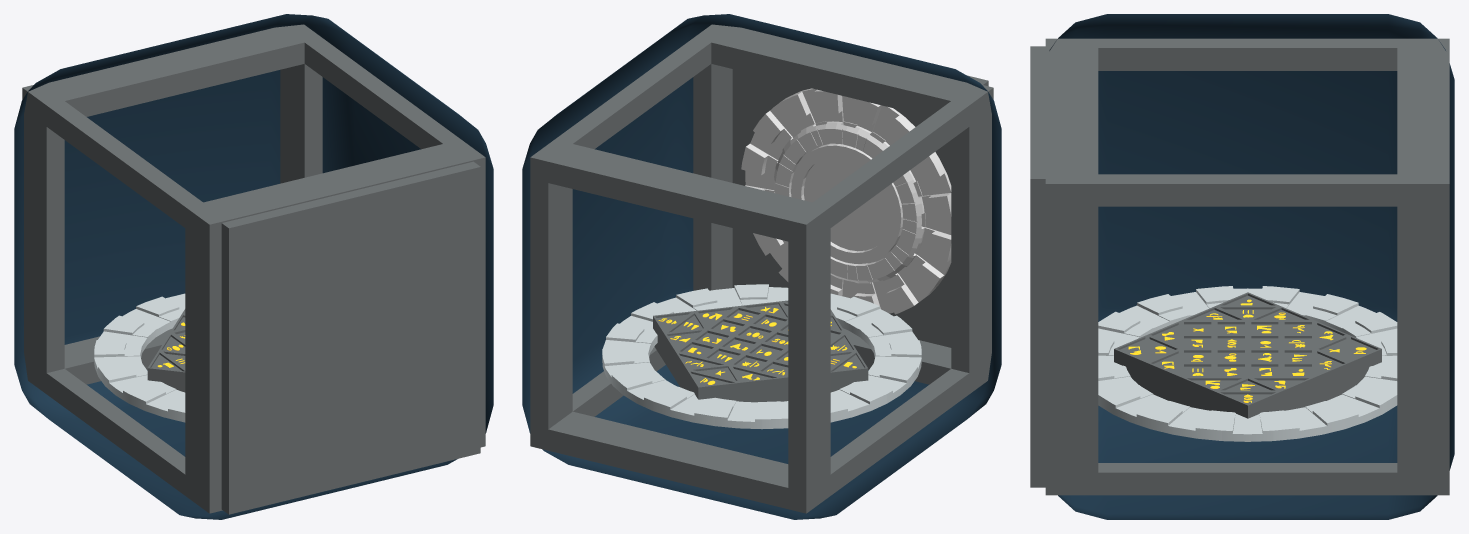
Rendered from MAIN PUZZLE.fbx.
3 renders of one model, left to right at view 1: azimuth 30°, elevation 25°; view 2: azimuth 150°, elevation 25°; view 3: azimuth 270°, elevation 25°, orthographic. The views are drawn at different scales.
Parts seen in each view (by area): view 1: Cube.064, Cube.002, Cube.001, Extruded.002, Cube.090; view 2: Cube.002, Cube.001, Extruded.002, Circle Gate Outer, Circle Gate Inner, Cube.090, Cube.064; view 3: Cube.001, Cube.002, Cube.090, Extruded.002, Cube.064.
Boxes of the visible parts, left/top/right/bottom form: Cube.064: left=221, top=161, right=480, bottom=514; Cube.002: left=22, top=24, right=485, bottom=513; Cube.001: left=14, top=14, right=493, bottom=519; Extruded.002: left=94, top=293, right=185, bottom=422; Cube.090: left=147, top=309, right=185, bottom=392; Cube.002: left=530, top=24, right=993, bottom=513; Cube.001: left=522, top=14, right=1001, bottom=519; Extruded.002: left=602, top=284, right=921, bottom=429; Circle Gate Outer: left=741, top=88, right=951, bottom=314; Circle Gate Inner: left=774, top=121, right=925, bottom=283; Cube.090: left=653, top=300, right=868, bottom=402; Cube.064: left=732, top=69, right=988, bottom=347; Cube.001: left=1049, top=14, right=1454, bottom=519; Cube.002: left=1045, top=38, right=1449, bottom=495; Cube.090: left=1114, top=292, right=1381, bottom=418; Extruded.002: left=1098, top=286, right=1397, bottom=441; Cube.064: left=1030, top=46, right=1045, bottom=487.
Size of the model in its own units: 456 by 456 by 468.
